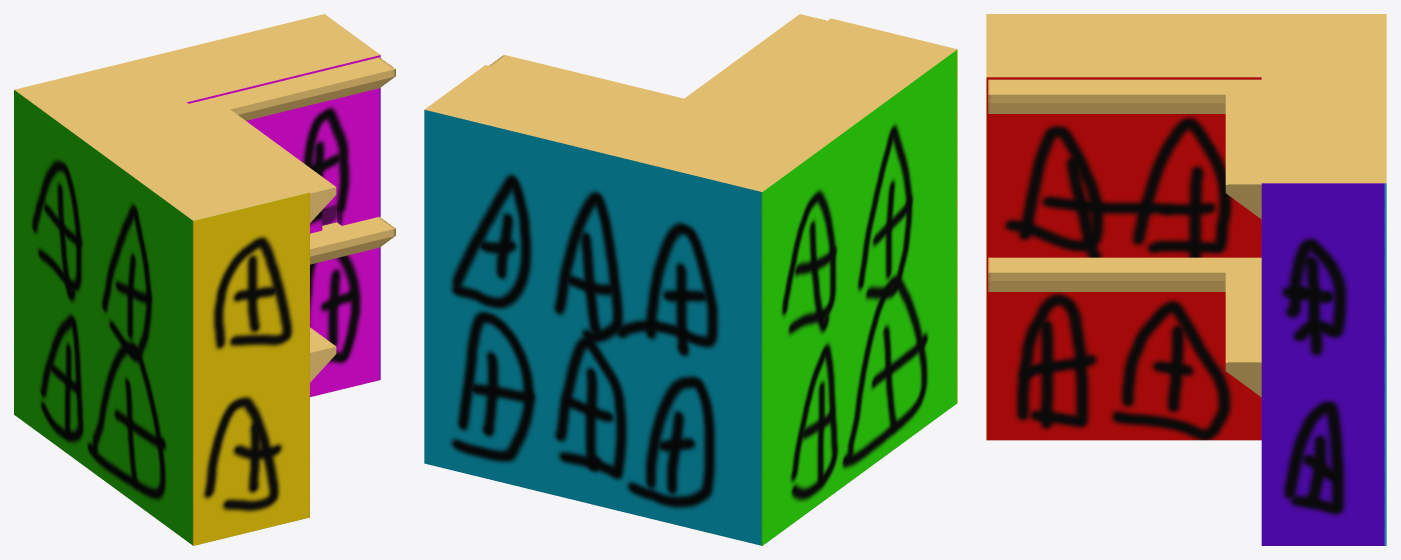
The model's file is Building1.fbx.
3 renders of one model, left to right at view 1: azimuth 30°, elevation 25°; view 2: azimuth 150°, elevation 25°; view 3: azimuth 270°, elevation 25°, orthographic. The views are drawn at different scales.
Parts seen in each view (by area): view 1: Building1; view 2: Building1; view 3: Building1.
Part boxes in pixels (<box>): Building1: <box>14,14,395,545</box>; Building1: <box>424,14,957,545</box>; Building1: <box>986,14,1386,545</box>.
Size of the model in its own units: 18.31 by 18.31 by 18.31.
